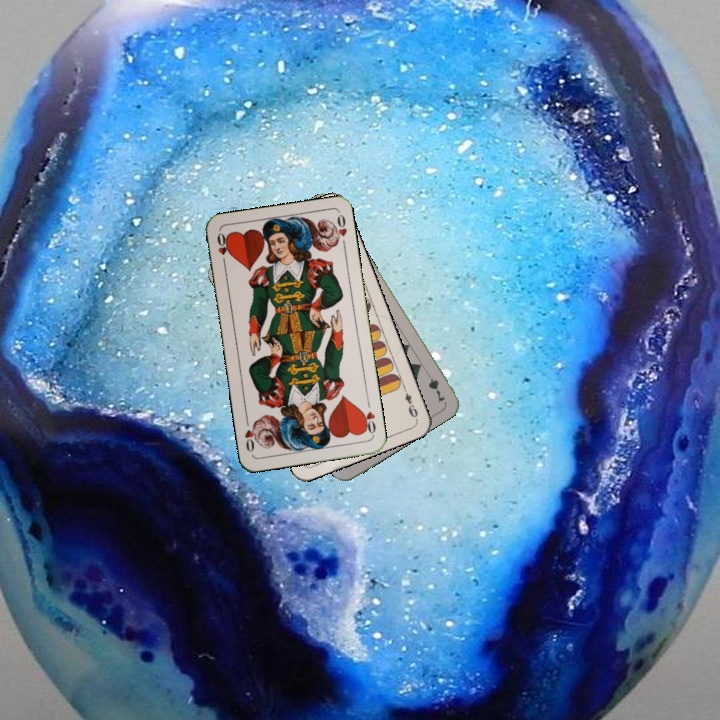E9: (399, 383, 421, 422)
G7: (421, 366, 448, 405)
HO: (358, 397, 378, 437), (213, 228, 232, 269)
